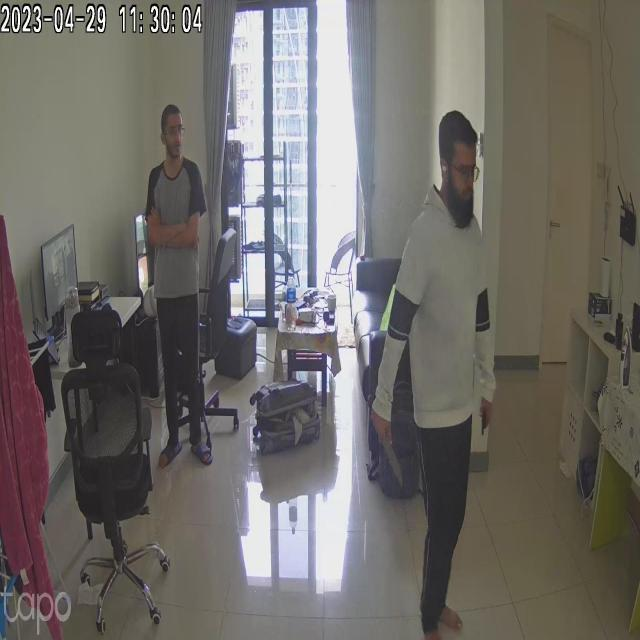Knife: (371, 421, 409, 493)
